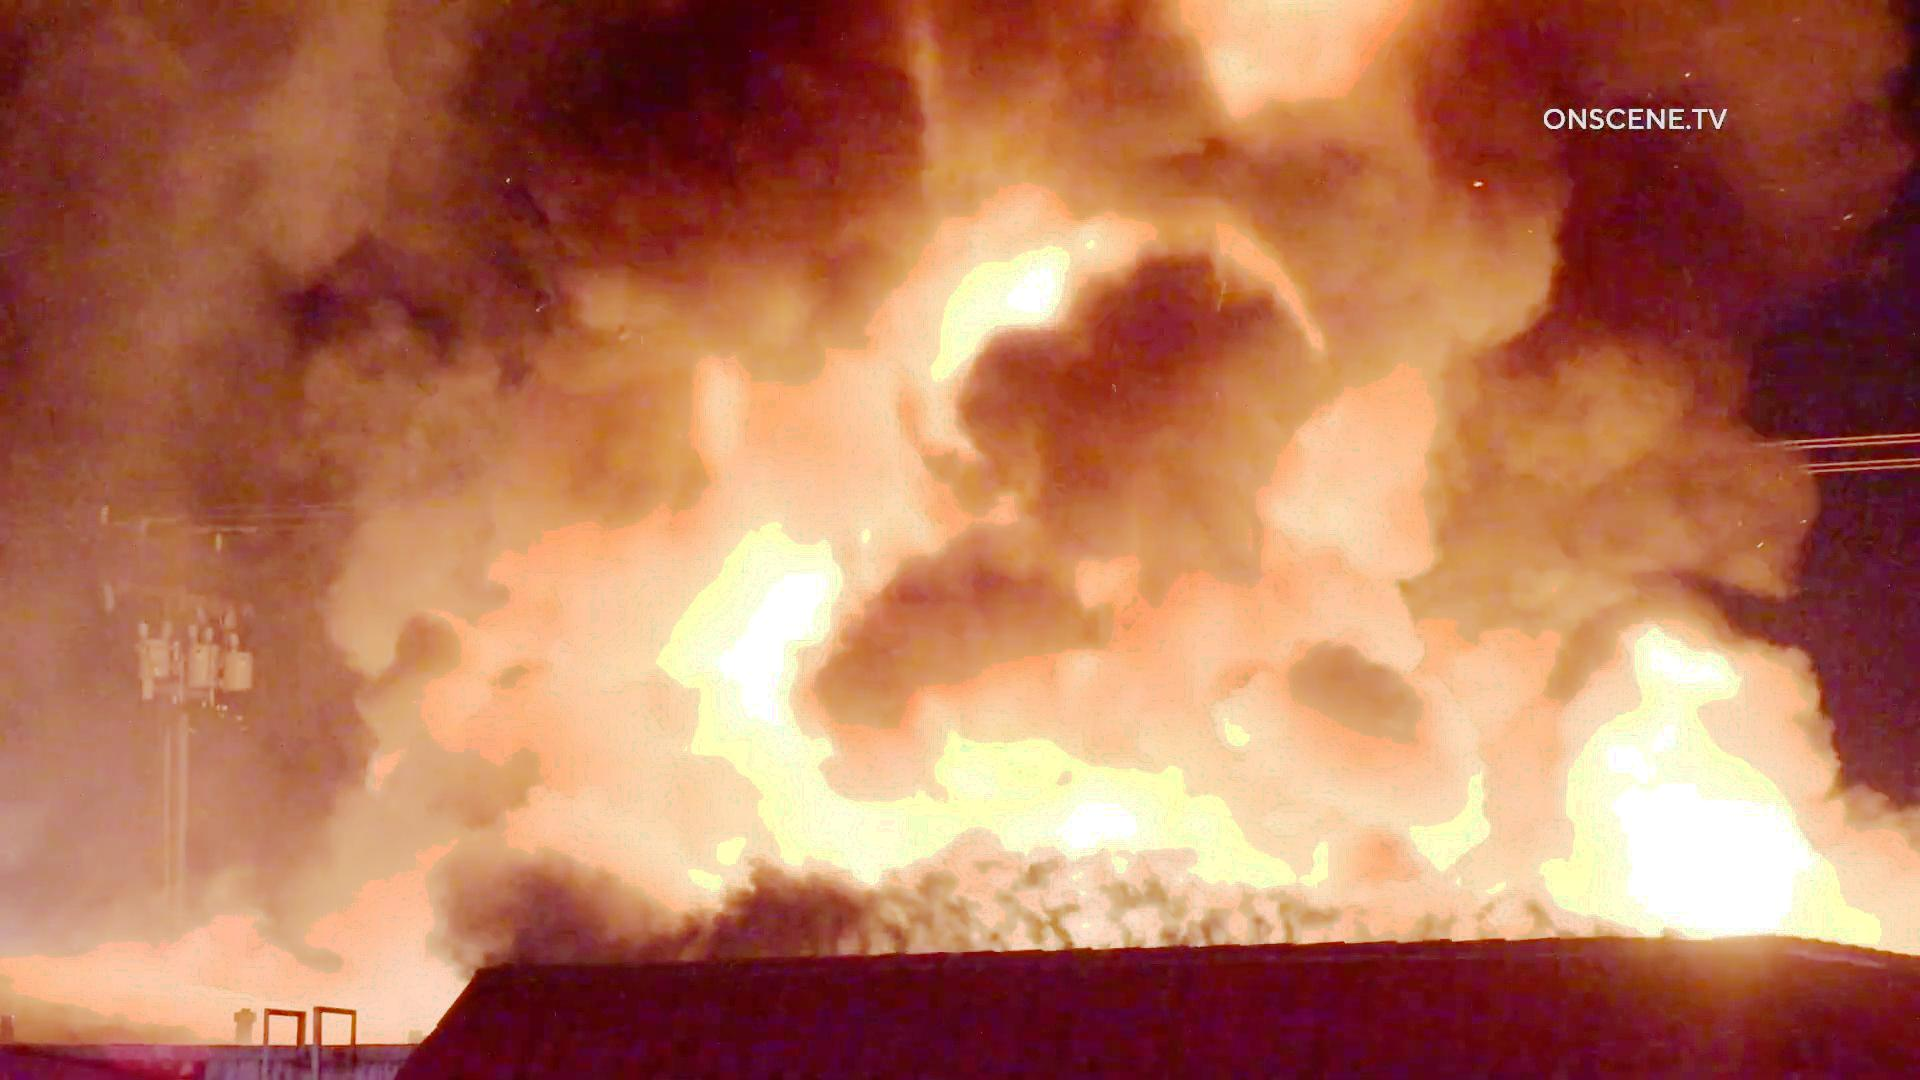fire: (1606, 666, 1799, 926), (1026, 748, 1195, 890)
smoke: (1035, 295, 1284, 554)
